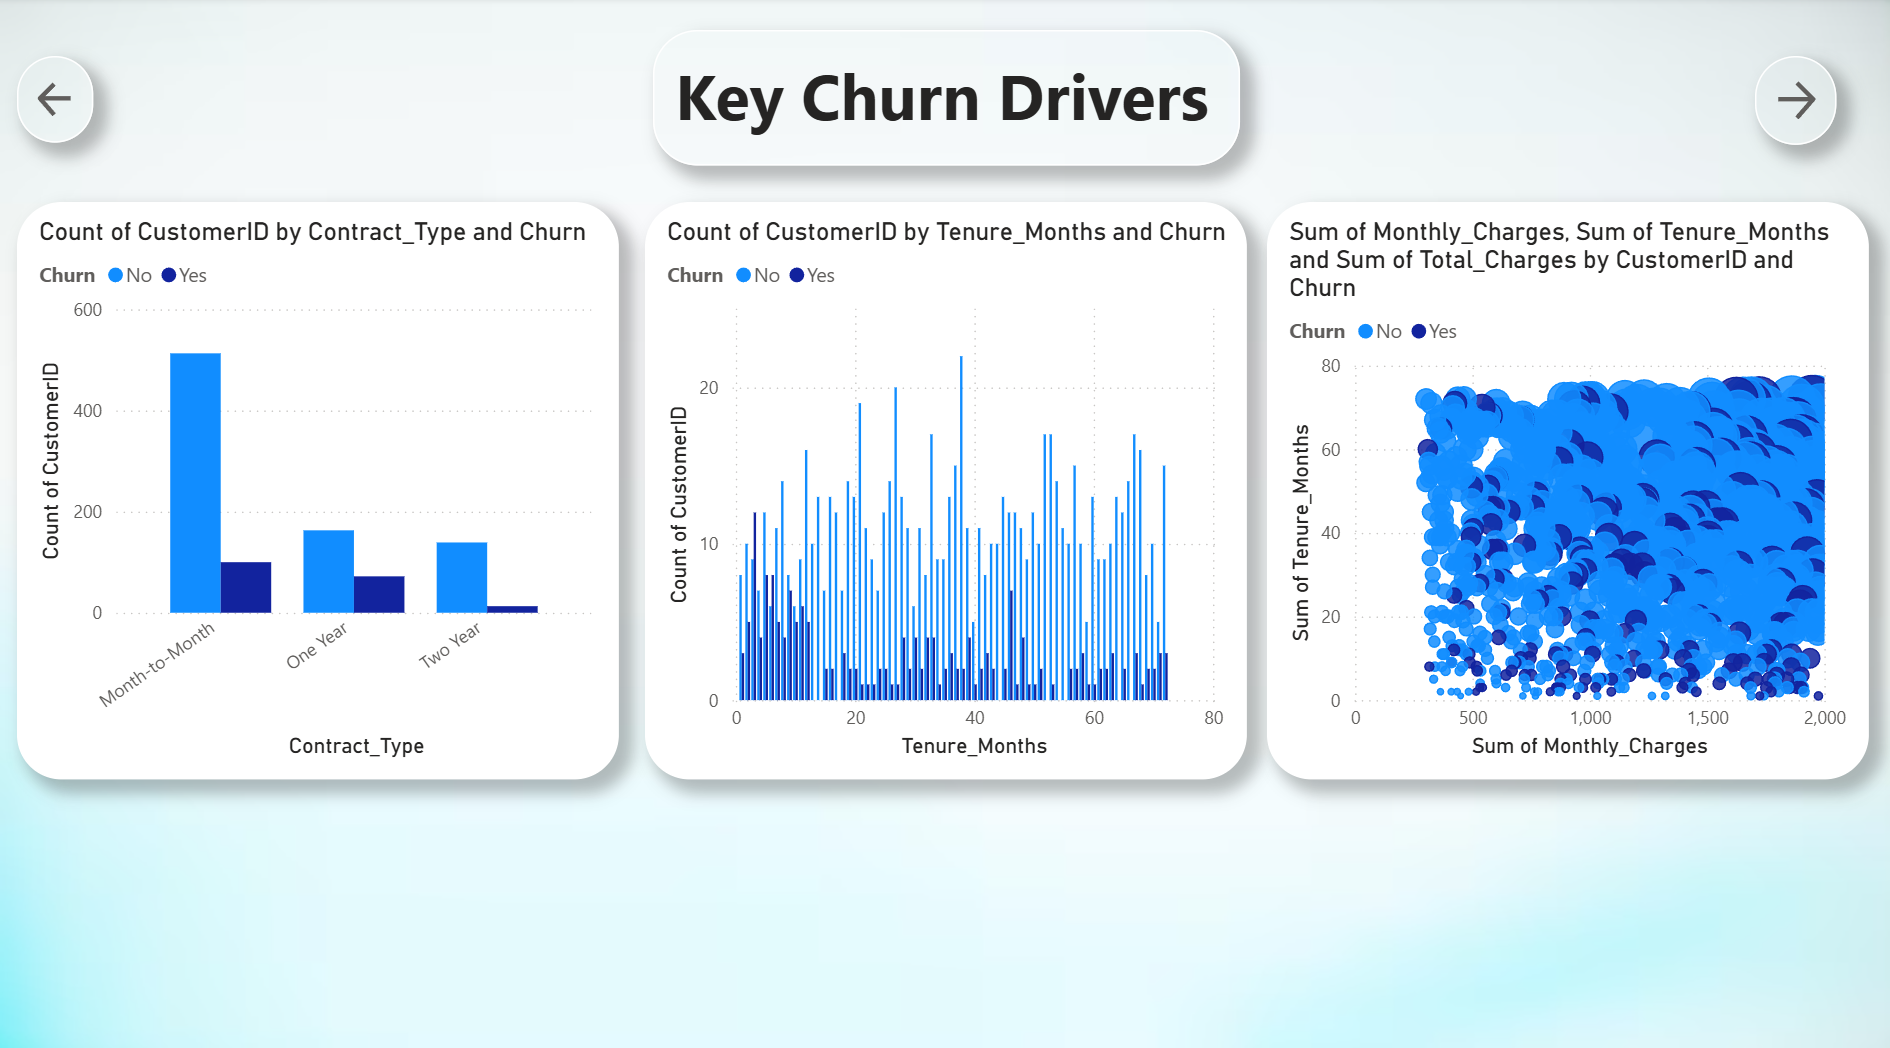

The page's visual inventory and layout, read from the dashboard file:
{"tool":"powerbi","page":{"name":"Key Churn Drivers","canvas":[1280,720],"ordinal":1},"visuals":[{"type":"clusteredColumnChart","fields":{"Series":["Customer_Churn_Data.Churn"],"Y":["CountNonNull(Customer_Churn_Data.CustomerID)"],"Category":["Customer_Churn_Data.Contract_Type"]},"box":[12.1,139.5,406.4,389.8],"z":0},{"type":"clusteredColumnChart","fields":{"Category":["Customer_Churn_Data.Tenure_Months"],"Y":["CountNonNull(Customer_Churn_Data.CustomerID)"],"Series":["Customer_Churn_Data.Churn"]},"box":[436.8,139.5,406.4,389.8],"z":1000},{"type":"scatterChart","fields":{"X":["Sum(Customer_Churn_Data.Monthly_Charges)"],"Y":["Sum(Customer_Churn_Data.Tenure_Months)"],"Series":["Customer_Churn_Data.Churn"],"Size":["Sum(Customer_Churn_Data.Total_Charges)"],"Category":["Customer_Churn_Data.CustomerID"]},"box":[856.9,139.5,406.4,389.8],"z":2000},{"type":"textbox","box":[441.7,23.3,396.7,91.7],"z":3000},{"type":"actionButton","box":[1186.7,40,55,60],"z":4000},{"type":"actionButton","box":[11.7,40,51.7,58.3],"z":5000}]}

Visuals, with their boxes in screenshot pixels (x1, y1, x2, y2), scaled from the page's 1280x720 canvas onto the 1890x1048 screenshot:
clusteredColumnChart - Customer_Churn_Data.Churn x CountNonNull(Customer_Churn_Data.CustomerID): region(18, 203, 618, 770)
clusteredColumnChart - Customer_Churn_Data.Tenure_Months x CountNonNull(Customer_Churn_Data.CustomerID): region(645, 203, 1245, 770)
scatterChart - Sum(Customer_Churn_Data.Monthly_Charges) x Sum(Customer_Churn_Data.Tenure_Months): region(1265, 203, 1865, 770)
textbox: region(652, 34, 1238, 167)
actionButton: region(1752, 58, 1833, 146)
actionButton: region(17, 58, 94, 143)
